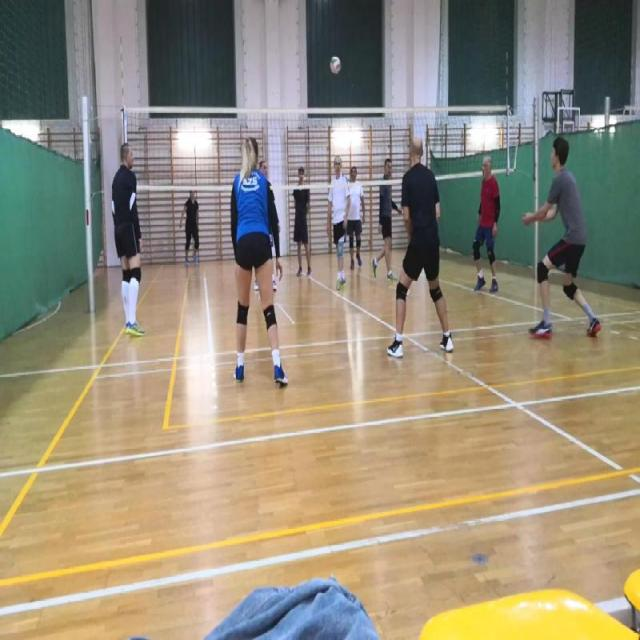volleyball: (330, 56, 340, 72)
